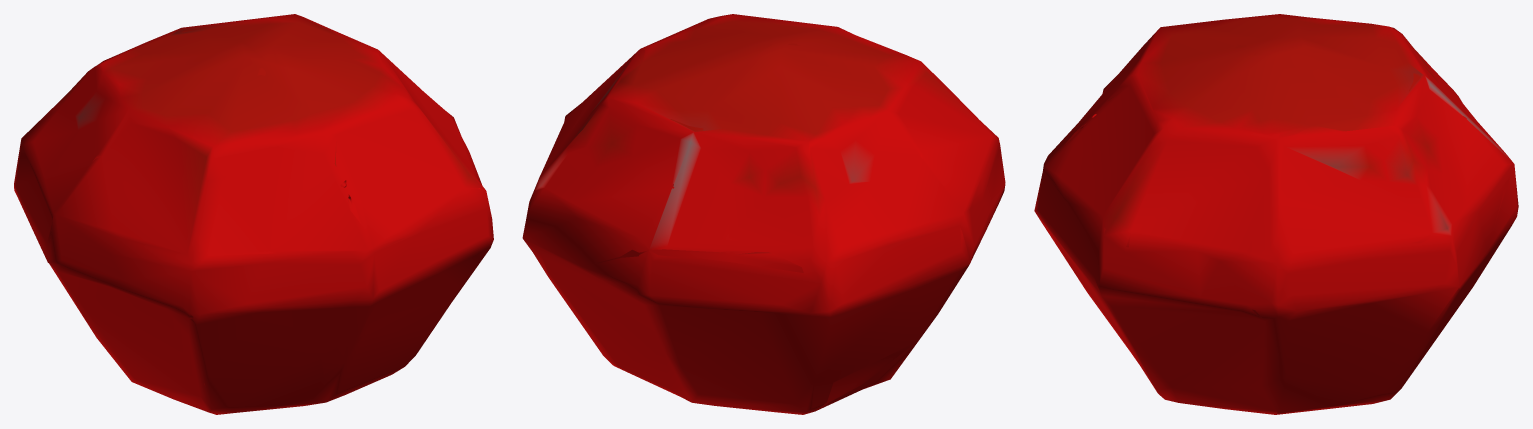
The model's file is gen3d-ruby-lod0.glb.
3 views of the same model, side by side, from view 1: azimuth 30°, elevation 25°; view 2: azimuth 150°, elevation 25°; view 3: azimuth 270°, elevation 25° (orthographic). The views are drawn at different scales.
Visible parts, largest first — view 1: part_0; view 2: part_0; view 3: part_0.
Boxes of the visible parts, left/top/right/bottom form: part_0: left=14, top=14, right=493, bottom=414; part_0: left=522, top=14, right=1005, bottom=414; part_0: left=1034, top=14, right=1518, bottom=414.
Size of the model in its own units: 1.34 by 0.9906 by 1.33.
